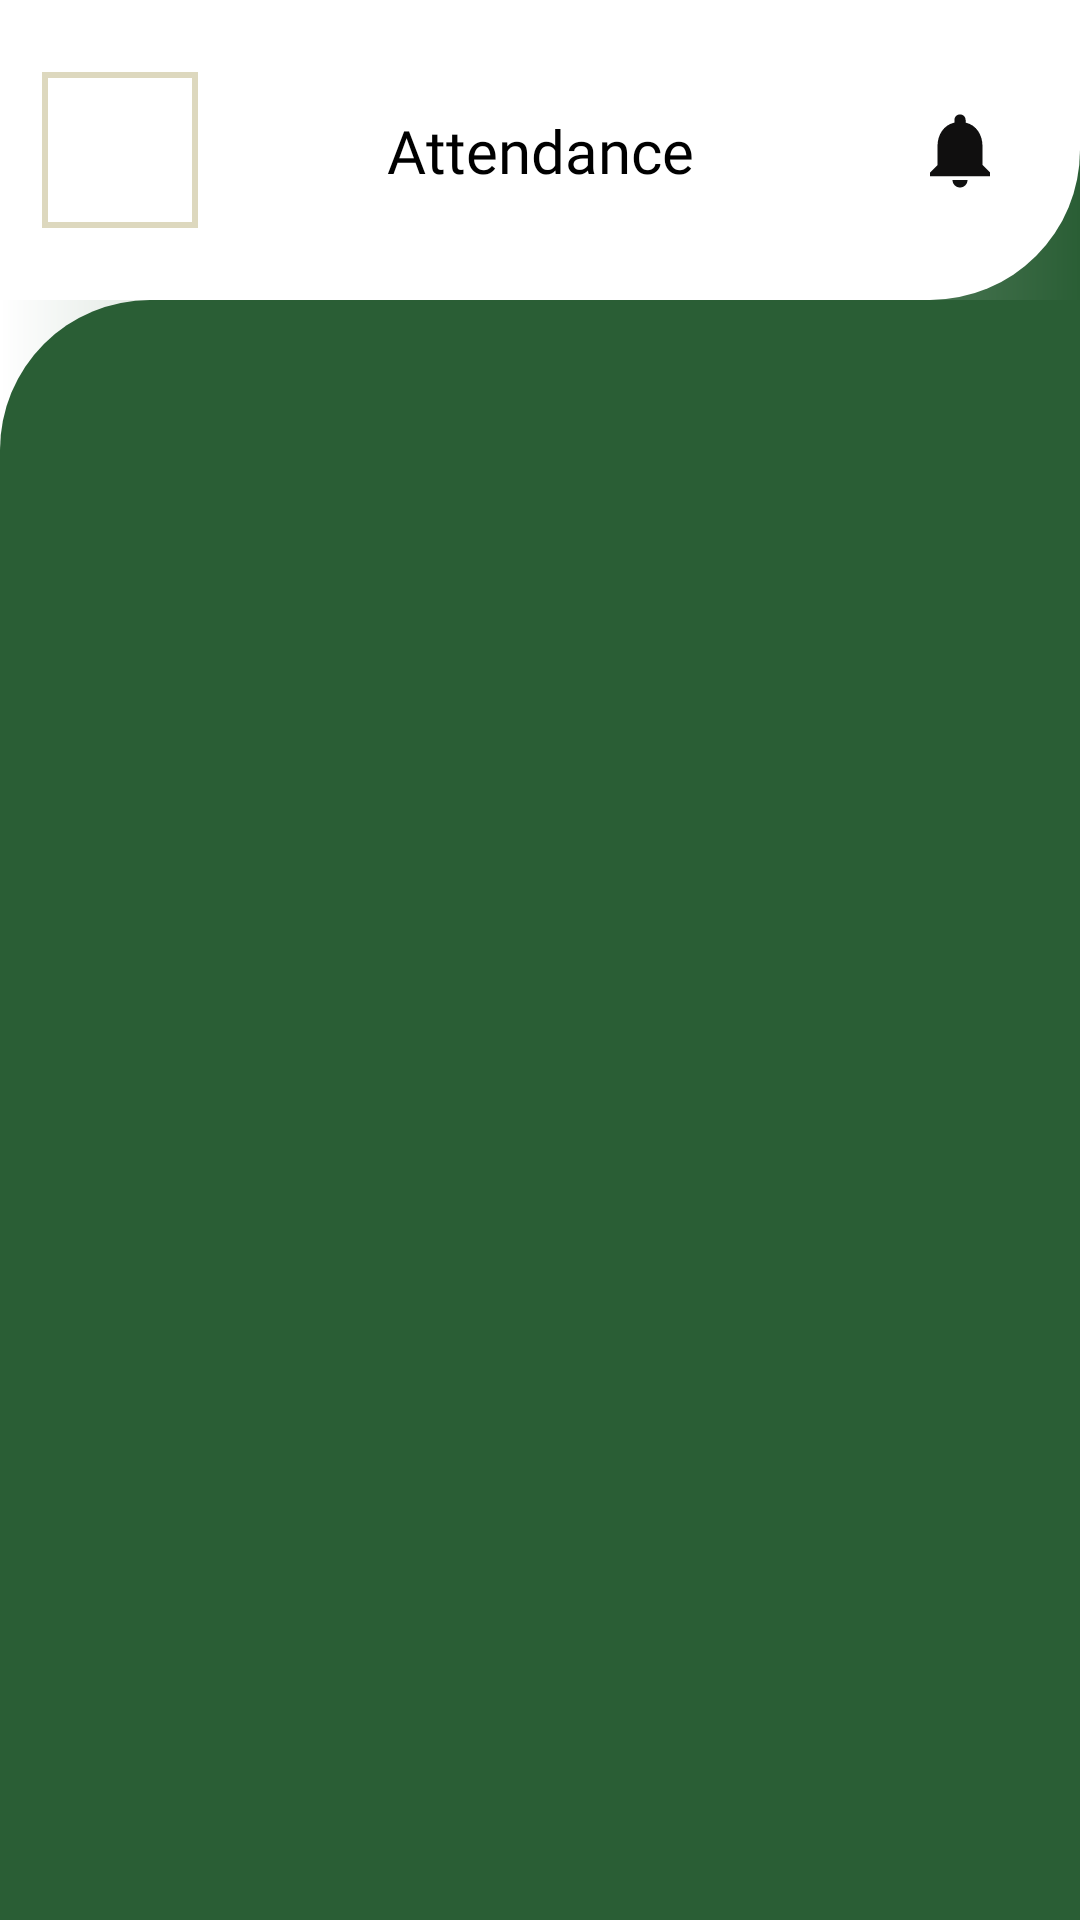

Screen size 1080 × 1920. Icon name, then its box in pixels as (x1, y1, x2, y2):
notifications: (930, 114, 990, 188)
